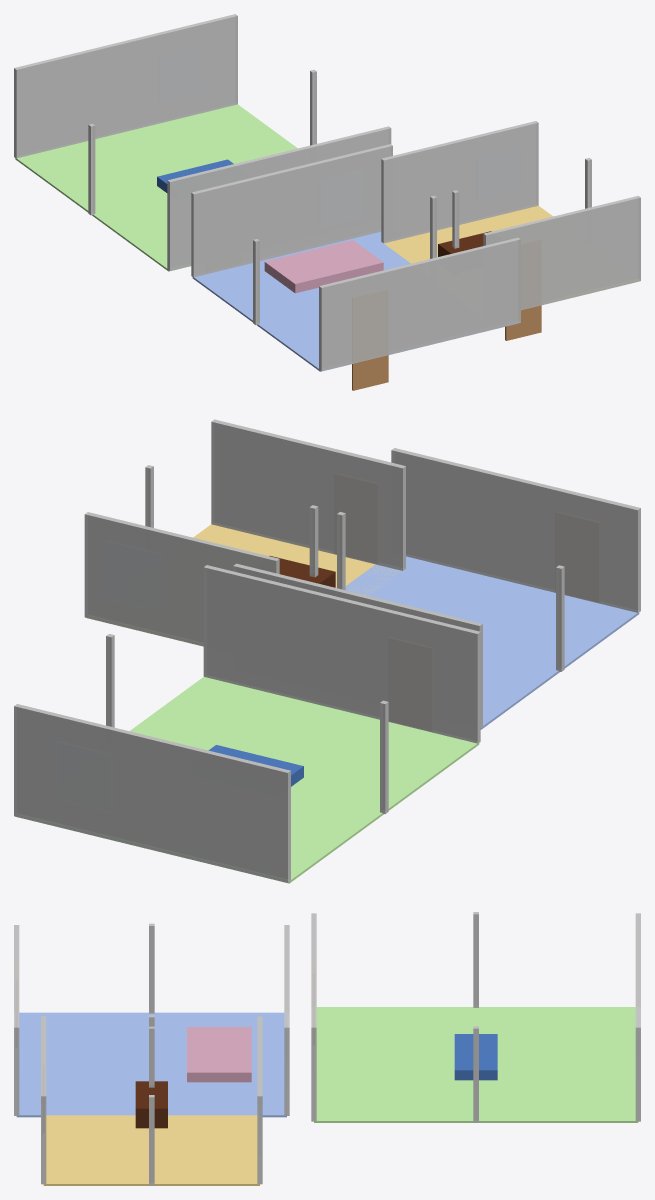
File: colorful_floorplan_6187.obj
3 views of the same model, one above another, from view 1: azimuth 30°, elevation 25°; view 2: azimuth 150°, elevation 25°; view 3: azimuth 270°, elevation 25° (orthographic). The views are drawn at different scales.
Parts seen in each view (by area): view 1: Living_Room_back_wall, Master_Bedroom_front_wall, Living_Room_floor, Master_Bedroom_back_wall, Modern_Kitchen_back_wall, Modern_Kitchen_front_wall, Master_Bedroom_floor, Living_Room_front_wall, Master_Bedroom_bed_bed, Modern_Kitchen_floor, Master_Bedroom_door_panel, Modern_Kitchen_door_panel (+4 smaller); view 2: Living_Room_back_wall, Living_Room_front_wall, Living_Room_floor, Master_Bedroom_front_wall, Modern_Kitchen_front_wall, Master_Bedroom_floor, Modern_Kitchen_back_wall, Modern_Kitchen_floor, Master_Bedroom_back_wall, Living_Room_left_wall, Master_Bedroom_left_wall, Living_Room_sofa_sofa (+4 smaller); view 3: Living_Room_floor, Master_Bedroom_floor, Modern_Kitchen_floor, Master_Bedroom_bed_bed, Living_Room_sofa_sofa, Modern_Kitchen_table_counter, Living_Room_front_wall, Living_Room_back_wall, Master_Bedroom_front_wall, Master_Bedroom_back_wall, Modern_Kitchen_front_wall, Modern_Kitchen_back_wall (+4 smaller).
Part boxes in pixels (box(x1,y1,x2,y2)): Living_Room_back_wall: box(14, 14, 237, 158); Master_Bedroom_front_wall: box(319, 237, 520, 371); Living_Room_floor: box(15, 104, 297, 271); Master_Bedroom_back_wall: box(191, 144, 392, 277); Modern_Kitchen_back_wall: box(381, 121, 538, 243); Modern_Kitchen_front_wall: box(483, 195, 640, 310); Master_Bedroom_floor: box(192, 231, 518, 371); Living_Room_front_wall: box(167, 126, 391, 270); Master_Bedroom_bed_bed: box(264, 240, 383, 293); Modern_Kitchen_floor: box(384, 205, 639, 304); Master_Bedroom_door_panel: box(352, 355, 388, 390); Modern_Kitchen_door_panel: box(505, 305, 541, 340); Living_Room_back_wall: box(14, 704, 290, 882); Living_Room_front_wall: box(203, 565, 480, 743); Living_Room_floor: box(17, 677, 479, 883); Master_Bedroom_front_wall: box(391, 448, 640, 612); Modern_Kitchen_front_wall: box(211, 419, 405, 570); Master_Bedroom_floor: box(345, 556, 639, 729); Modern_Kitchen_back_wall: box(84, 512, 279, 646); Modern_Kitchen_floor: box(87, 524, 401, 646); Master_Bedroom_back_wall: box(233, 563, 482, 727); Living_Room_left_wall: box(380, 700, 388, 814); Master_Bedroom_left_wall: box(556, 565, 564, 671); Living_Room_sofa_sofa: box(208, 745, 303, 786); Living_Room_floor: box(314, 1007, 638, 1122); Master_Bedroom_floor: box(16, 1012, 286, 1117); Modern_Kitchen_floor: box(43, 1115, 259, 1185); Master_Bedroom_bed_bed: box(187, 1027, 251, 1082); Living_Room_sofa_sofa: box(454, 1034, 497, 1080); Modern_Kitchen_table_counter: box(135, 1081, 167, 1128); Living_Room_front_wall: box(311, 913, 316, 1121); Living_Room_back_wall: box(635, 913, 640, 1121); Master_Bedroom_front_wall: box(14, 925, 19, 1115); Master_Bedroom_back_wall: box(284, 925, 289, 1115); Modern_Kitchen_front_wall: box(41, 1016, 46, 1184); Modern_Kitchen_back_wall: box(257, 1016, 262, 1184).
Bounding box in the file's own units: 7.85 × 2.52 × 11.6.
